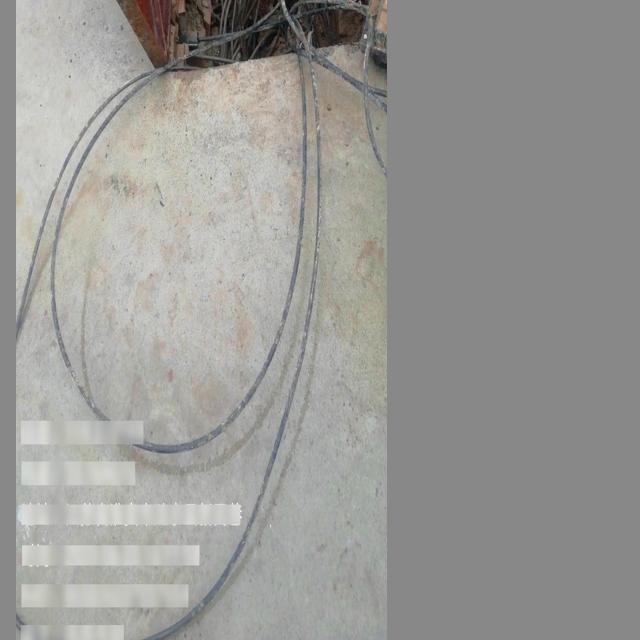uncovered: (20, 0, 387, 77)
